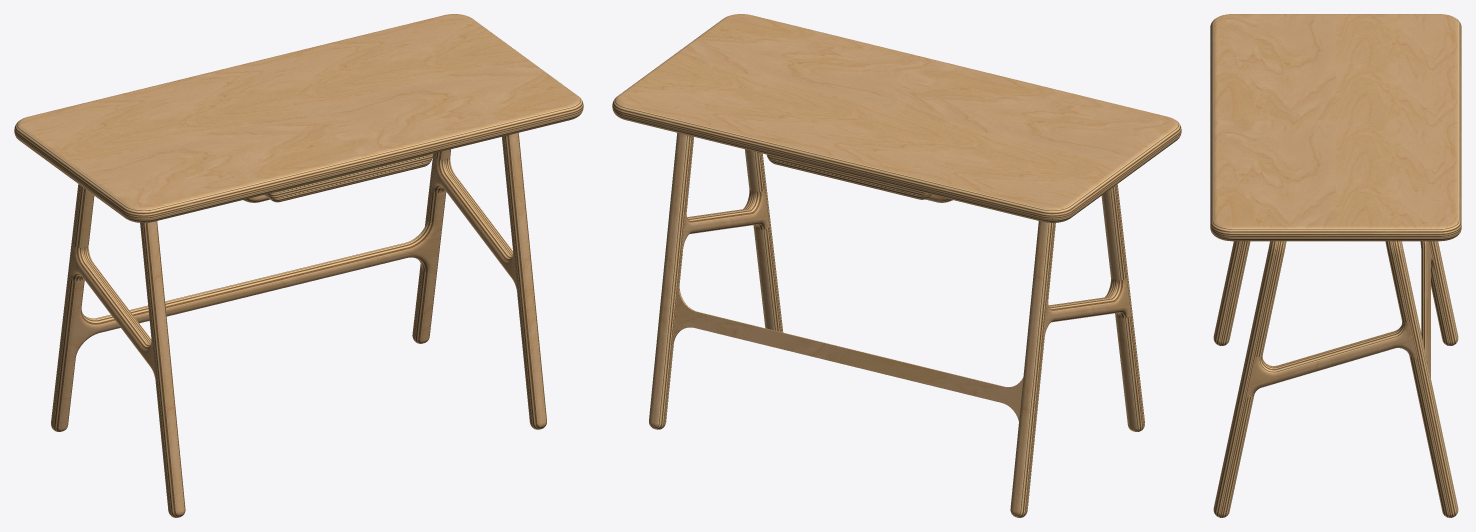
File: desk.glb
The picture shows the model from 3 angles, left to right: view 1: azimuth 30°, elevation 25°; view 2: azimuth 150°, elevation 25°; view 3: azimuth 270°, elevation 25°; orthographic projection. The views are drawn at different scales.
Parts seen in each view (by area): view 1: Desk.001; view 2: Desk.001; view 3: Desk.001.
Boxes of the visible parts, x1,y1,x2,y2 form: Desk.001: [14, 14, 583, 517]; Desk.001: [612, 14, 1181, 517]; Desk.001: [1210, 14, 1461, 517].
Bounding box in the file's own units: 1.14 × 0.762 × 0.5588.
Materials: 2 (2 with a texture image).
